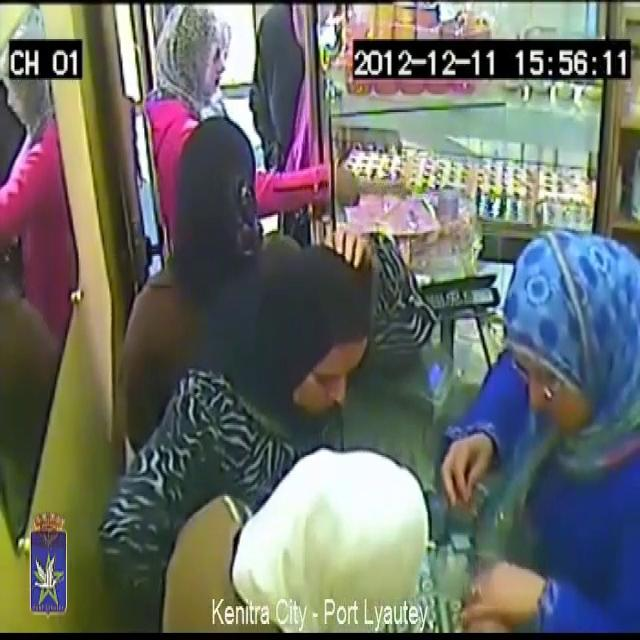normal: (426, 186, 639, 640), (171, 410, 436, 640), (142, 1, 384, 238), (235, 210, 365, 418), (166, 108, 261, 283)
